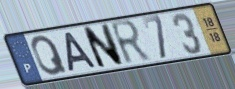3: (171, 11, 204, 56)
7: (140, 14, 170, 62)
A: (62, 31, 99, 73)
N: (80, 22, 126, 71)
Q: (30, 34, 70, 78)
R: (108, 18, 155, 68)
